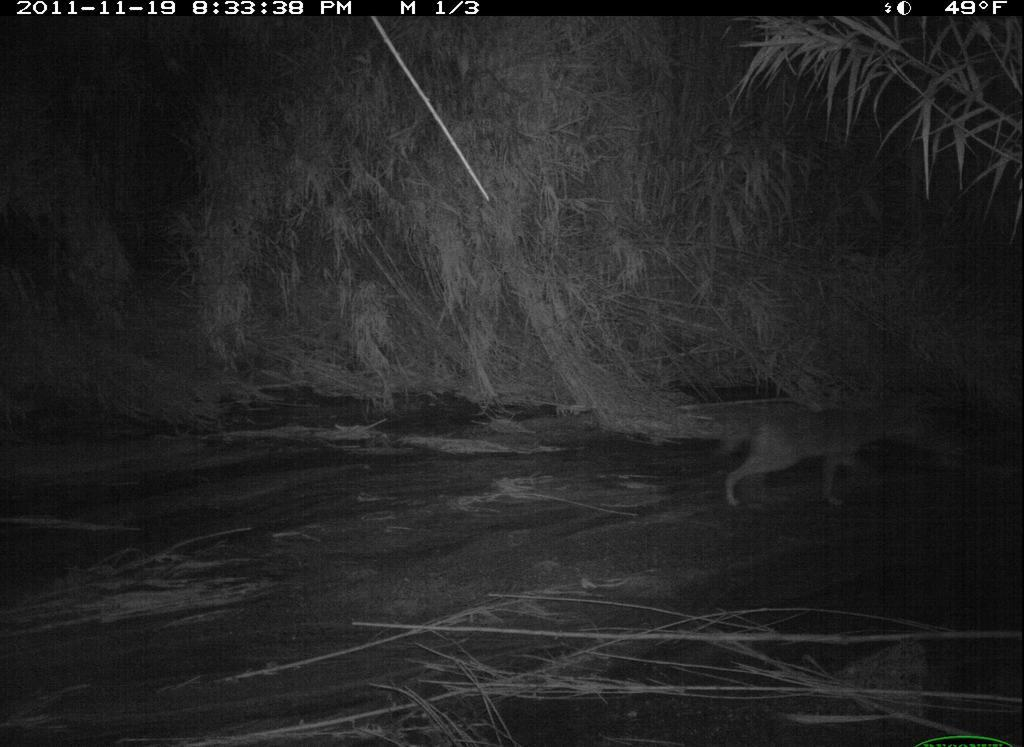coyote: (698, 383, 908, 513)
